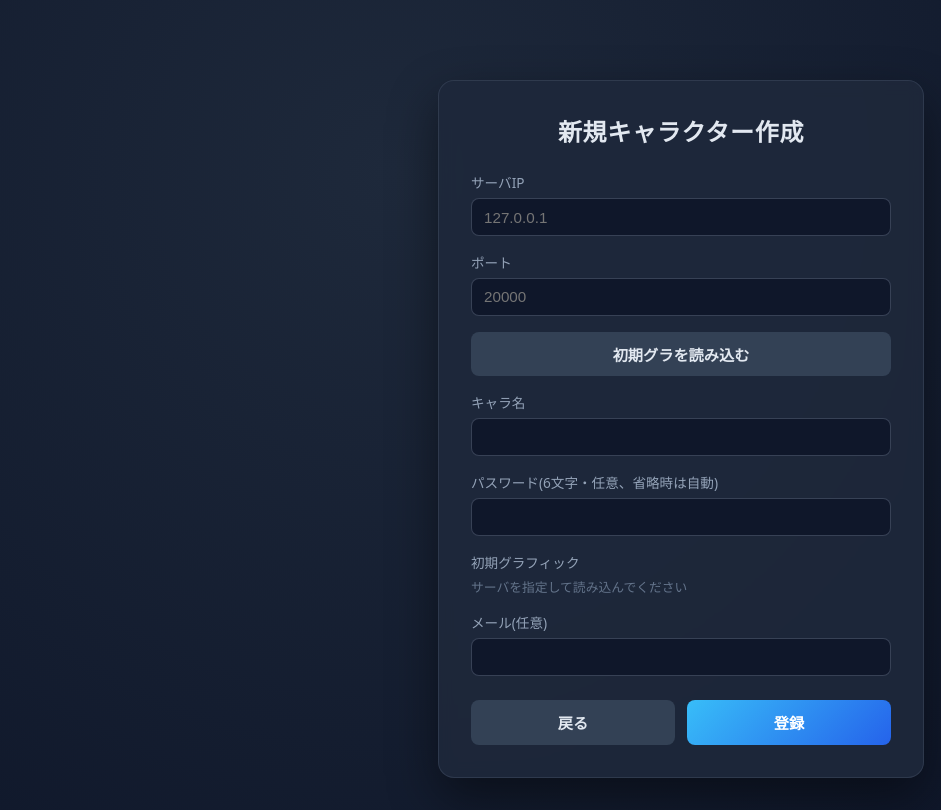
Register コンポーネント › グラ未読込で登録すると送信しない
Type "Hero" into the field labelled "キャラ名" at (681, 437), box [471,418,891,456]
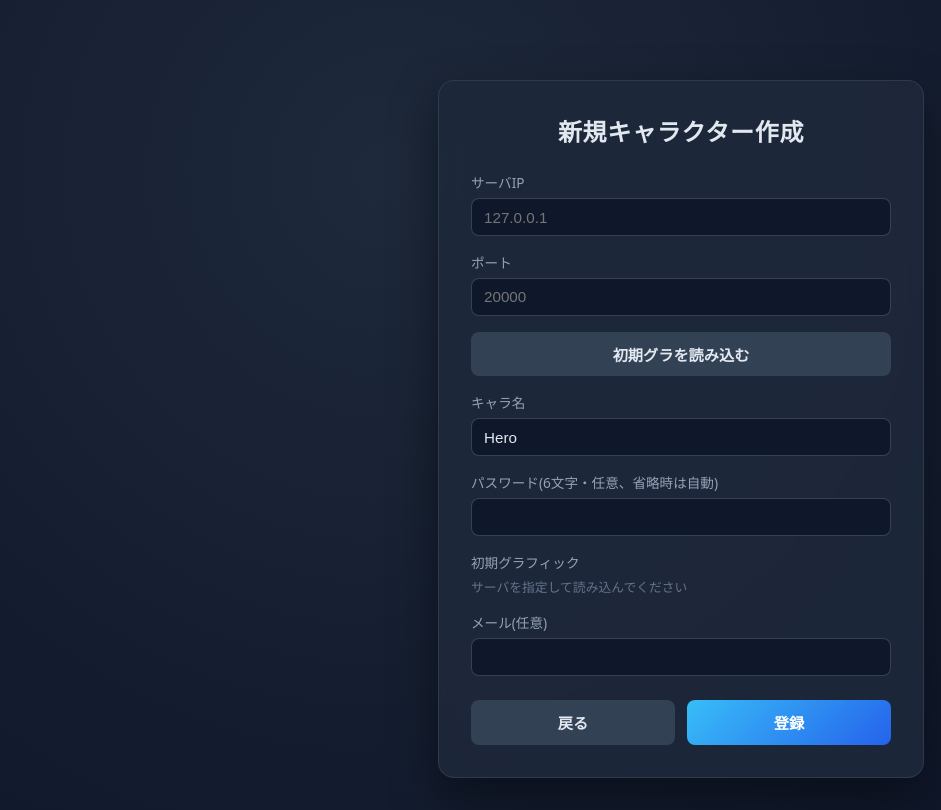
Type "abc123" into the password field labelled "パスワード" at (681, 517), box [471,498,891,536]
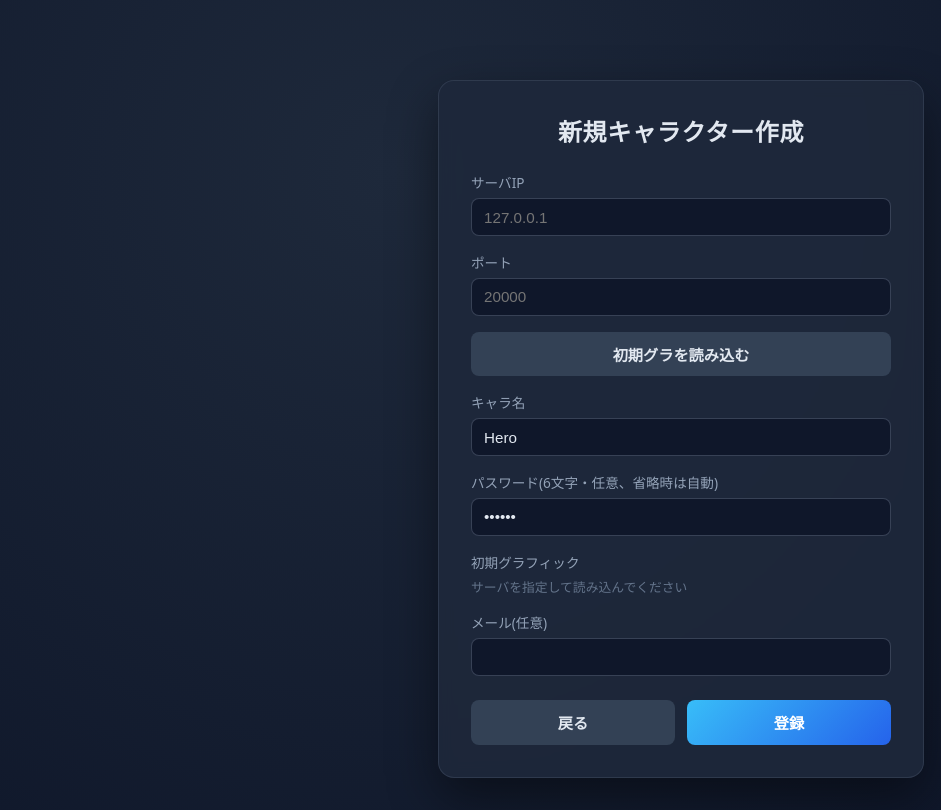
Click the button "登録" at (789, 722), box [687,700,891,745]
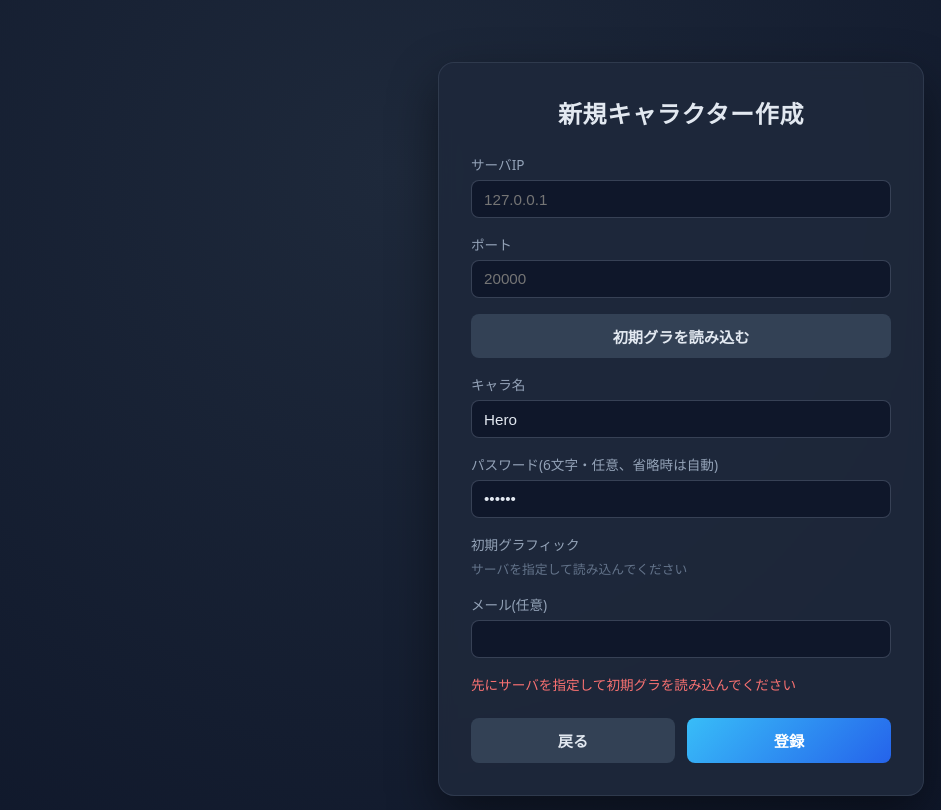
Check: the text "先にサーバを指定して初期グラを読み込んでください" is shown, box [471,675,796,694]
